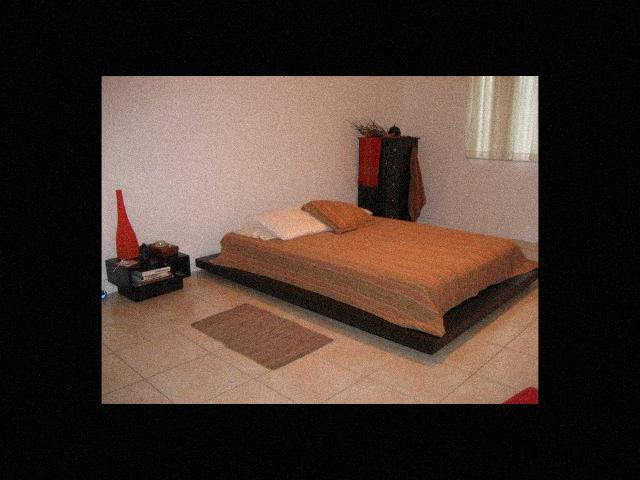Armario: (365, 140, 418, 215)
